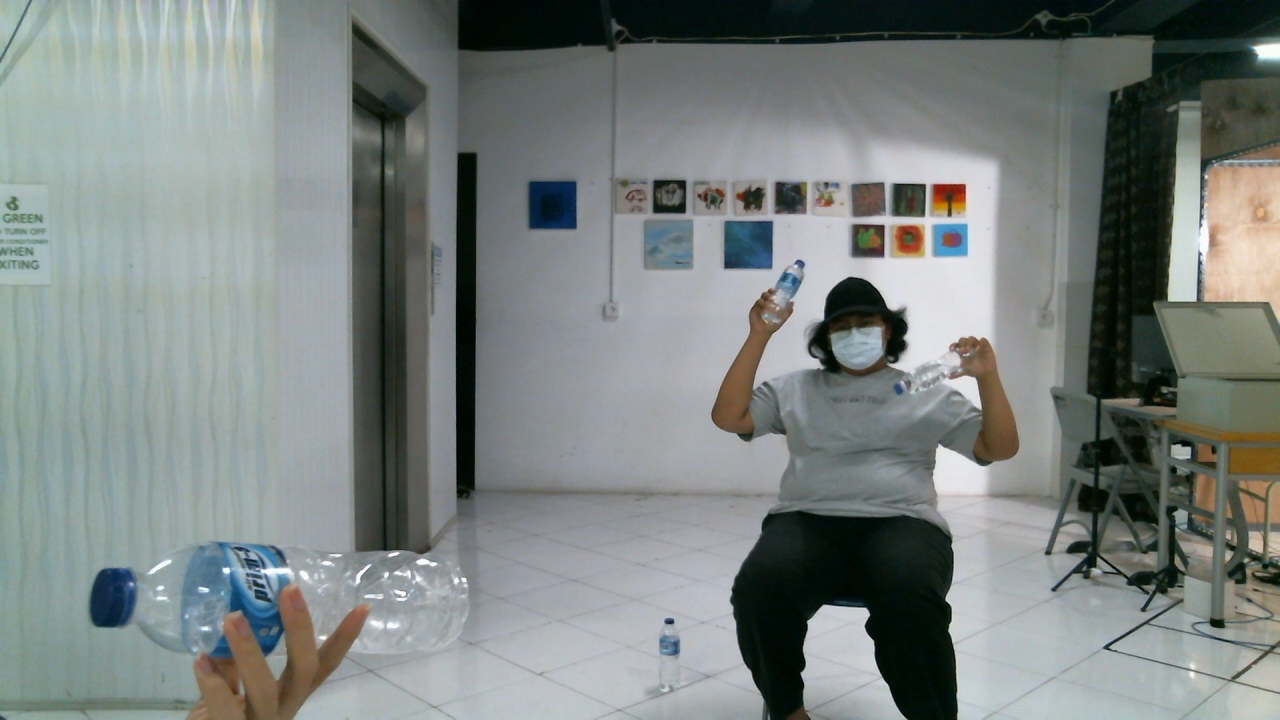Bottle: (77, 540, 467, 660), (761, 259, 804, 322), (655, 616, 682, 685)
